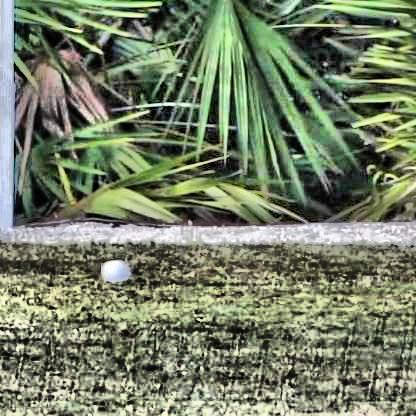golfball: (99, 257, 129, 283)
